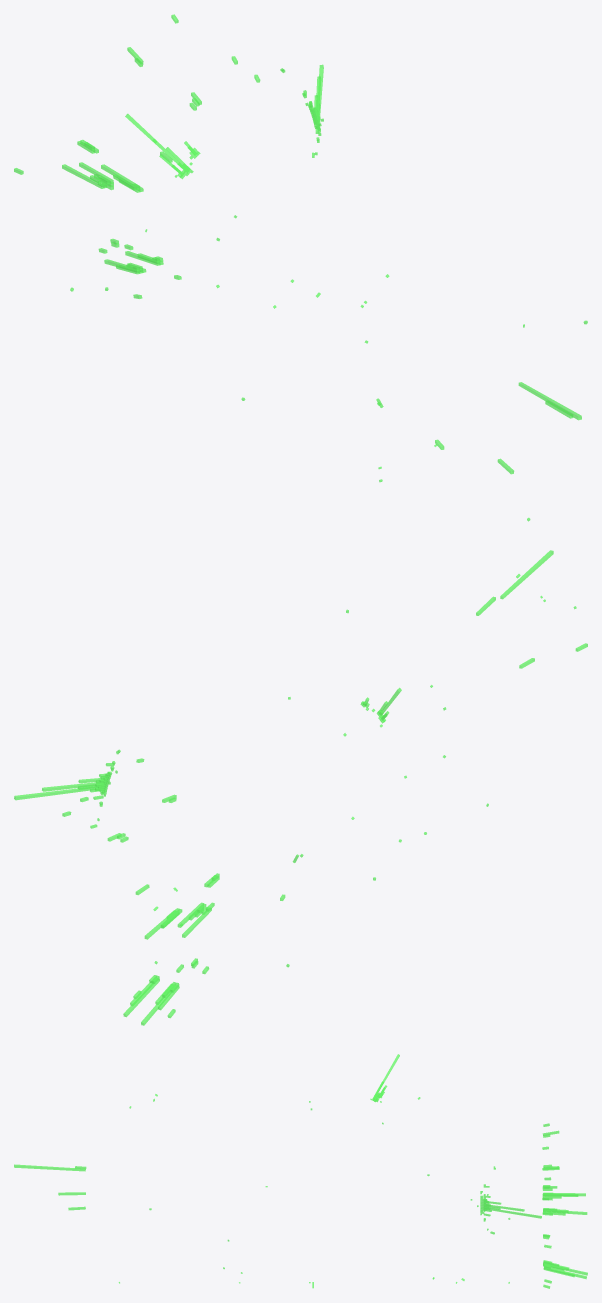
3 views of the same model, one above another, from view 1: azimuth 30°, elevation 25°; view 2: azimuth 150°, elevation 25°; view 3: azimuth 270°, elevation 25° (orthographic). The views are drawn at different scales.
Visible parts, largest first — view 1: EERecHits_V2, EBRecHits_V2; view 2: EERecHits_V2, EBRecHits_V2; view 3: EERecHits_V2, EBRecHits_V2.
Part boxes in pixels (x1,y1,x2,y2): EERecHits_V2: (14,14,581,474); EBRecHits_V2: (70,64,587,521); EERecHits_V2: (62,550,587,1025); EBRecHits_V2: (14,574,576,967); EERecHits_V2: (14,1123,587,1288); EBRecHits_V2: (118,1054,541,1288).
Size of what is drawn, in the model's own units: 3.12 by 2.91 by 7.99.
